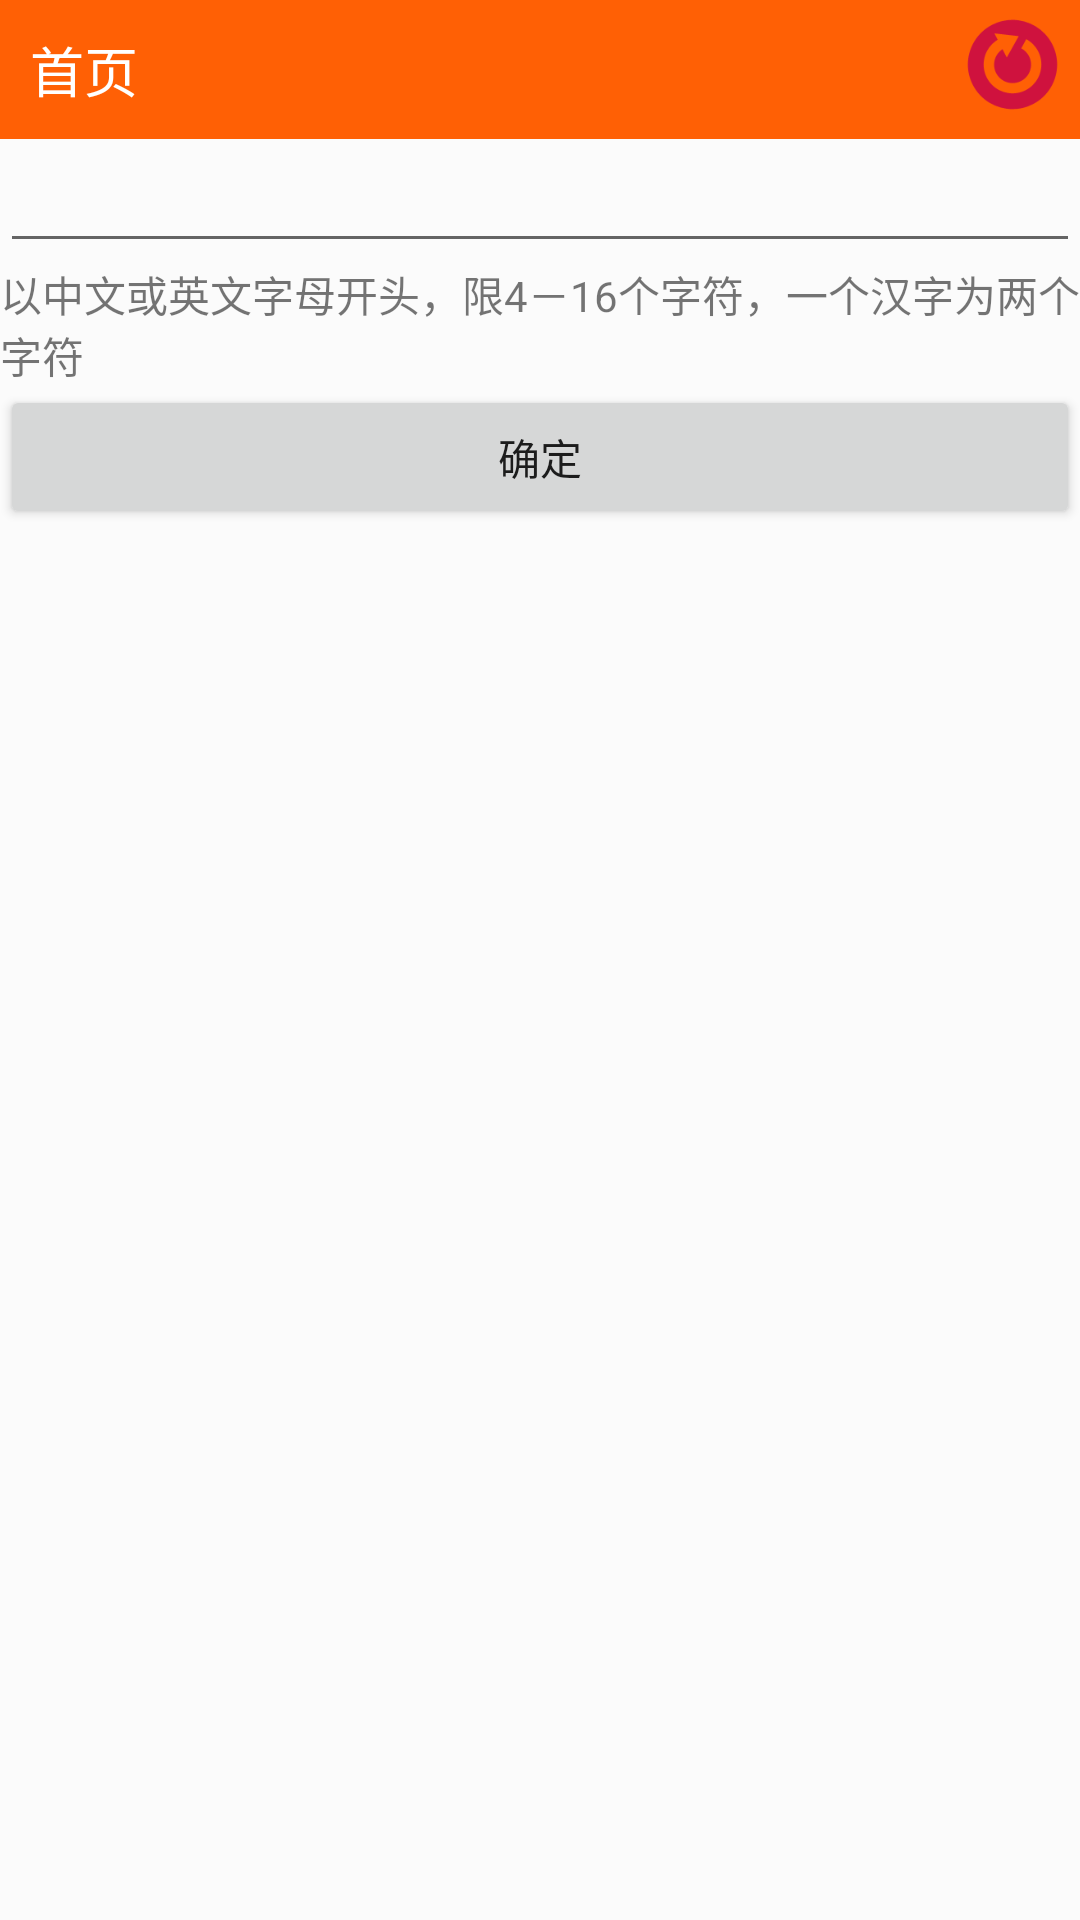

Where icons sit on this 1080px x 1920px app screen, as (x1, y1, x2, y2):
refresh: (968, 20, 1057, 109)
